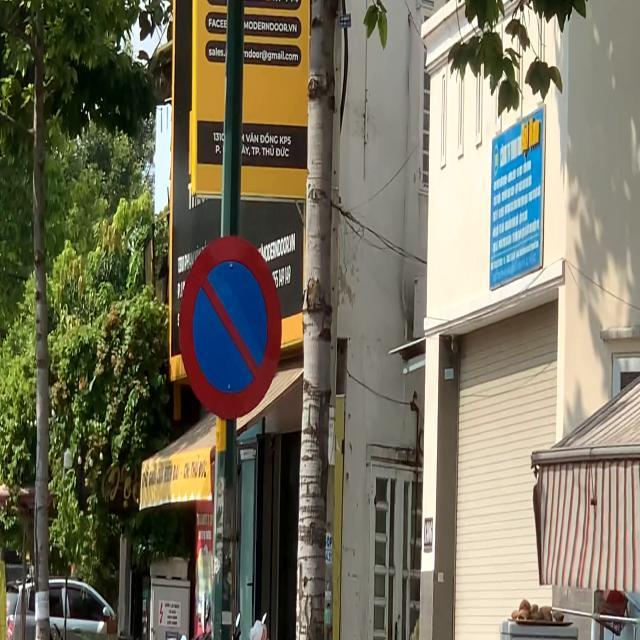P-131a: (178, 234, 282, 419)
